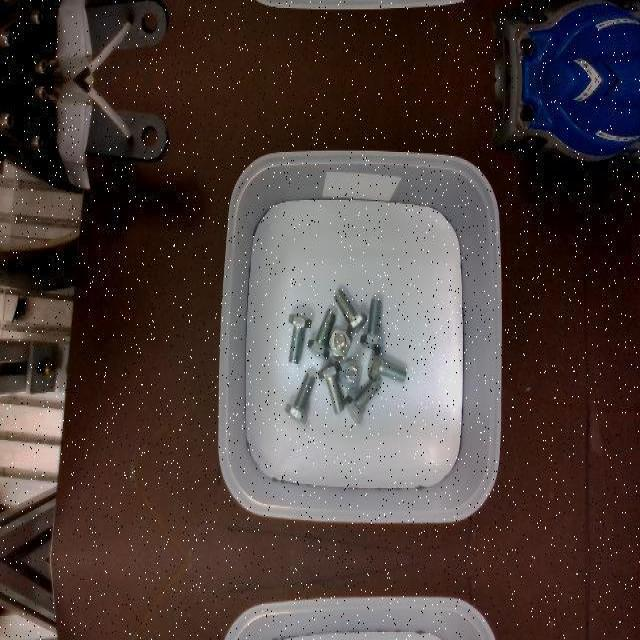screw: (344, 379, 380, 425), (285, 372, 316, 424), (334, 288, 366, 334), (307, 309, 336, 359), (318, 361, 345, 413), (368, 347, 407, 381), (287, 312, 311, 364), (361, 297, 384, 349), (340, 360, 363, 390), (329, 329, 352, 355)
